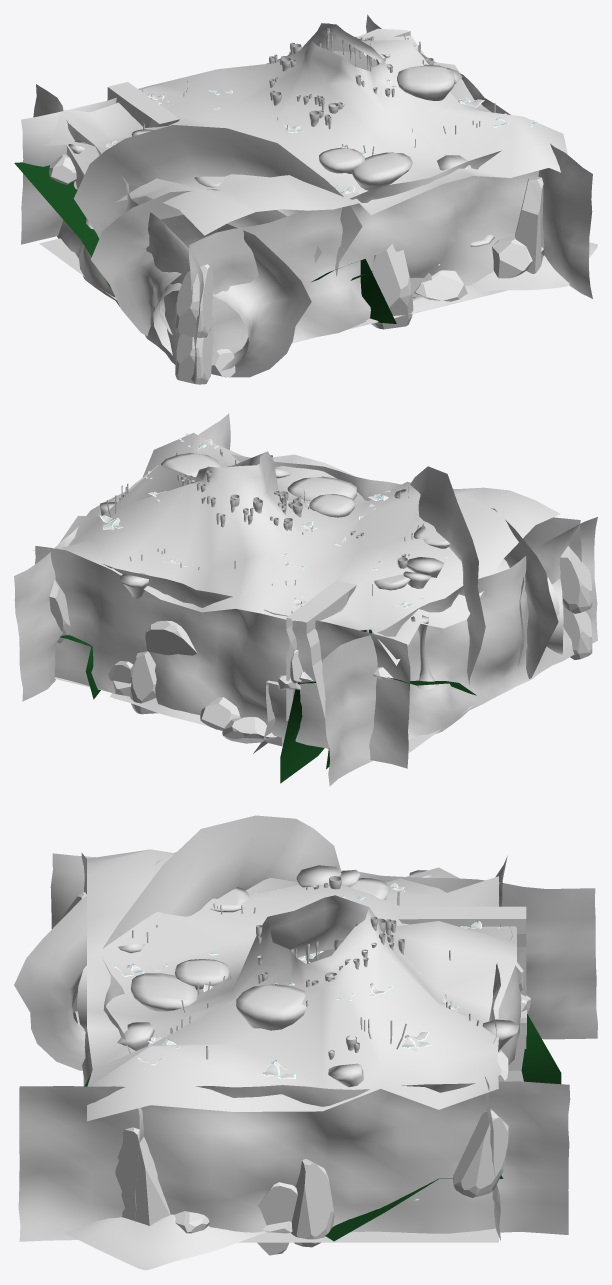
File: LumiCaveV7.fbx
The picture shows the model from 3 angles, top to bottom: view 1: azimuth 30°, elevation 25°; view 2: azimuth 150°, elevation 25°; view 3: azimuth 270°, elevation 25°; orthographic projection. The views are drawn at different scales.
Visible parts, largest first — view 1: Wall_LP.001, Size.012, CaveOpeningA_LP, CaveOpeningA_LP.002, CaveOpeningA_LP.001, Dirt, Rock_A.003, Cube.031, Rock_A.012, Rock_D_LP.009, Rock_A.011, Root_1_LP (+9 smaller); view 2: Wall_LP.001, Size.012, CaveOpeningA_LP, CaveOpeningA_LP.001, RockyHill.001, Rock_A.012, Cube.033, Rock_B.007, Rock_A.005, Root_B_LP, Rock_A.011, Rock_C_LP.017 (+9 smaller); view 3: Wall_LP.001, Size.012, CaveOpeningA_LP, CaveOpeningA_LP.002, Dirt, Rock_D_LP.009, Rock_A.008, RockyHill.001, Rock_A.006, Root_1_LP, Floor, Root_B_LP (+11 smaller).
Part boxes in pixels (x1,y1,x2,y2): Wall_LP.001: [21, 14, 592, 383]; Size.012: [44, 23, 567, 235]; CaveOpeningA_LP: [73, 125, 362, 276]; CaveOpeningA_LP.002: [153, 214, 311, 377]; CaveOpeningA_LP.001: [90, 189, 321, 336]; Dirt: [366, 242, 597, 323]; Rock_A.003: [371, 244, 413, 329]; Cube.031: [14, 162, 111, 288]; Rock_A.012: [175, 264, 213, 337]; Rock_D_LP.009: [515, 177, 544, 273]; Rock_A.011: [175, 316, 213, 384]; Root_1_LP: [397, 64, 455, 100]; Wall_LP.001: [14, 413, 597, 786]; Size.012: [33, 433, 560, 665]; CaveOpeningA_LP: [410, 466, 509, 684]; CaveOpeningA_LP.001: [491, 508, 559, 678]; RockyHill.001: [286, 580, 356, 721]; Rock_A.012: [559, 546, 592, 613]; Cube.033: [280, 681, 324, 783]; Rock_B.007: [145, 620, 197, 655]; Rock_A.005: [130, 651, 157, 714]; Root_B_LP: [287, 476, 357, 501]; Rock_A.011: [563, 606, 592, 659]; Rock_C_LP.017: [222, 717, 276, 743]; Wall_LP.001: [18, 853, 597, 1241]; Size.012: [87, 849, 516, 1121]; CaveOpeningA_LP: [86, 815, 340, 991]; CaveOpeningA_LP.002: [14, 896, 86, 1070]; Dirt: [63, 1214, 267, 1270]; Rock_D_LP.009: [115, 1127, 170, 1225]; Rock_A.008: [453, 1109, 509, 1197]; RockyHill.001: [398, 906, 526, 1048]; Rock_A.006: [291, 1159, 334, 1247]; Root_1_LP: [236, 984, 306, 1030]; Floor: [238, 1228, 498, 1242]; Root_B_LP: [131, 973, 197, 1011].
Size of the model in its own units: 9894 by 4717 by 8509.
